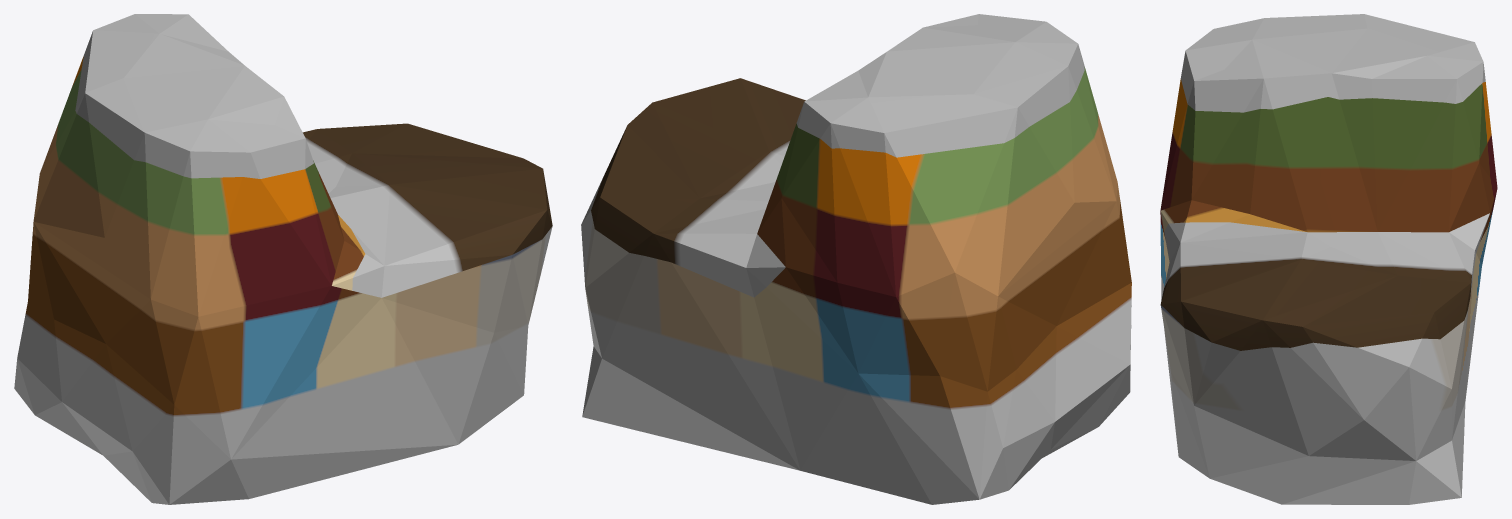
The model's file is Rock_04.fbx.
The picture shows the model from 3 angles, left to right: view 1: azimuth 30°, elevation 25°; view 2: azimuth 150°, elevation 25°; view 3: azimuth 270°, elevation 25°; orthographic projection. The views are drawn at different scales.
Parts seen in each view (by area): view 1: Rock_04; view 2: Rock_04; view 3: Rock_04.
Boxes of the visible parts, bbox=[...] form: Rock_04: bbox=[14, 14, 552, 504]; Rock_04: bbox=[581, 14, 1131, 504]; Rock_04: bbox=[1160, 14, 1497, 504].
Bounding box in the file's own units: 7.53 × 6.07 × 5.45.
